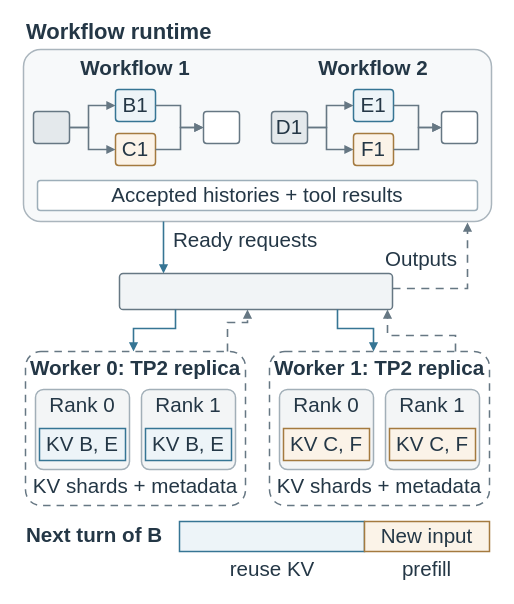
The diagram is 514 pixels wide and 604 high, and some of its shapes have lost their labels. The shapes that lost their labels are listed below. From the top down, each one's box as (x1, y1, x2, y2) in pixels, then its label:
(32, 110, 70, 144): A1
(202, 110, 240, 144): A2
(440, 110, 478, 144): D2
(118, 272, 393, 310): Serving scheduler
(178, 520, 365, 552): Cached prefix
